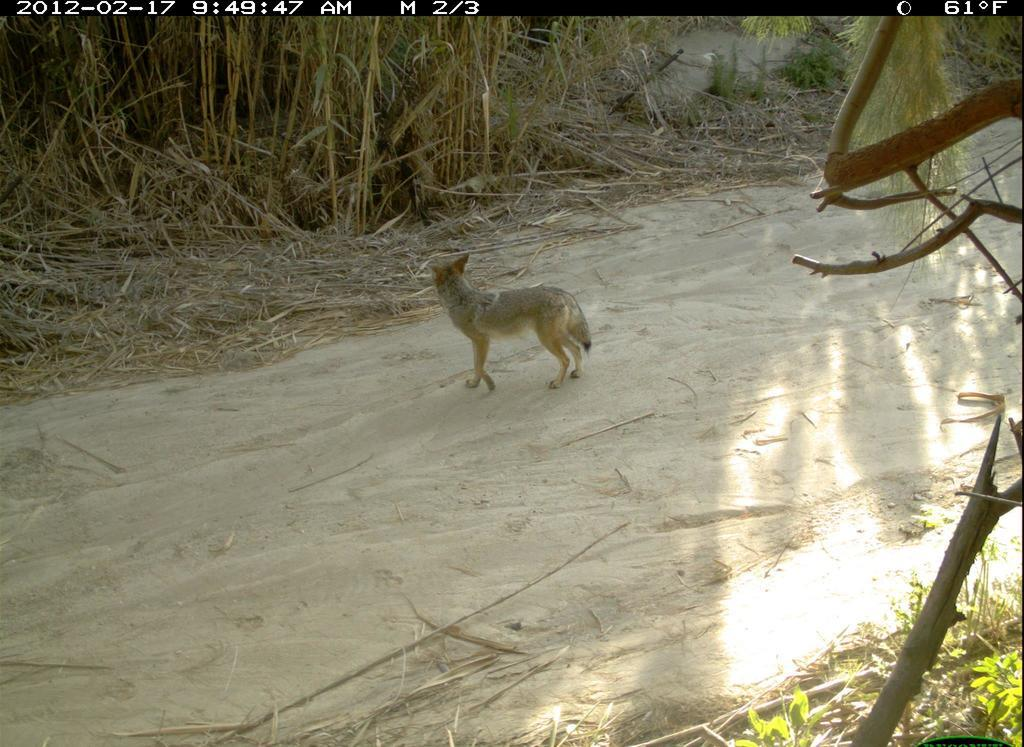coyote: (423, 249, 605, 396)
